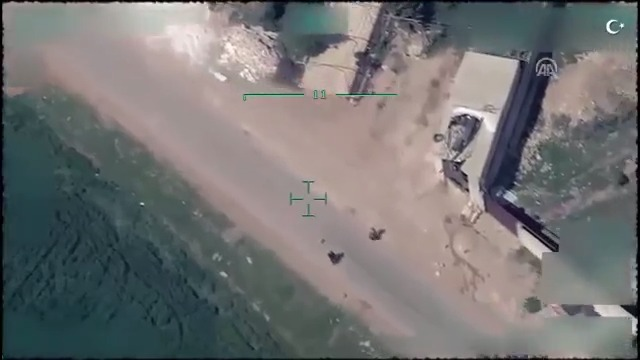insan: (328, 248, 345, 266)
